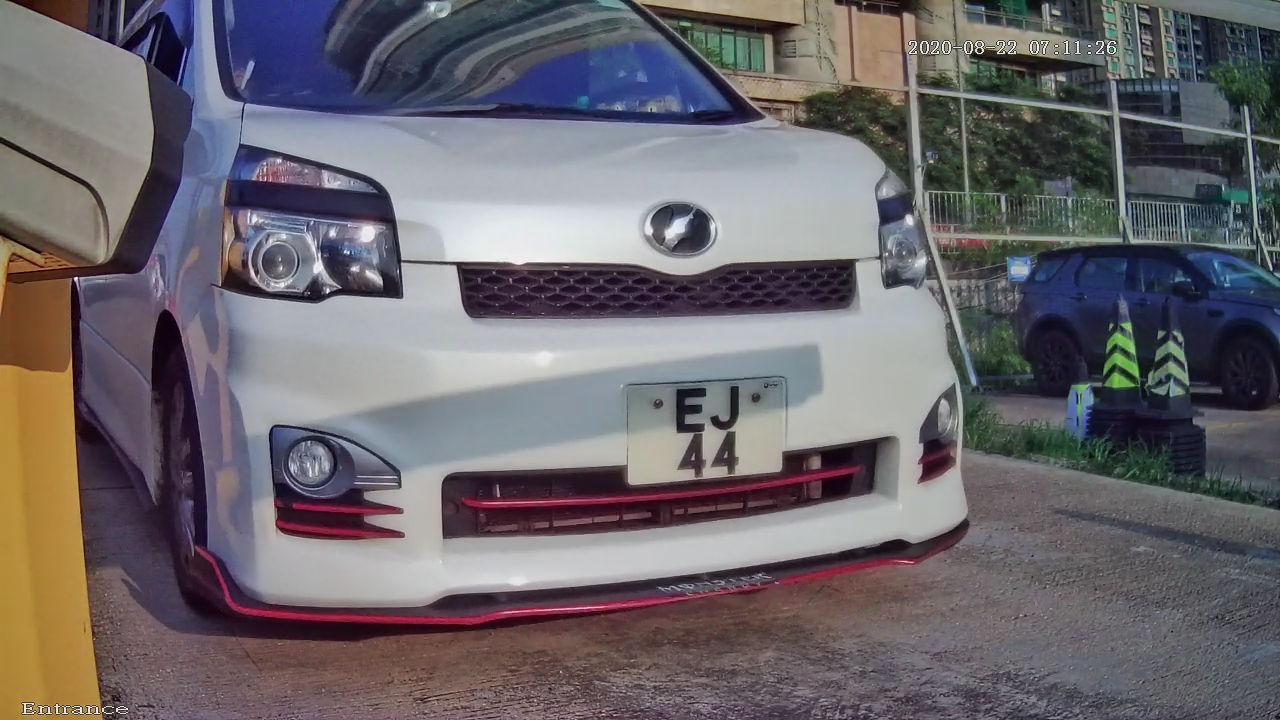Car: (69, 4, 1069, 653)
License Plate: (606, 357, 818, 499)
